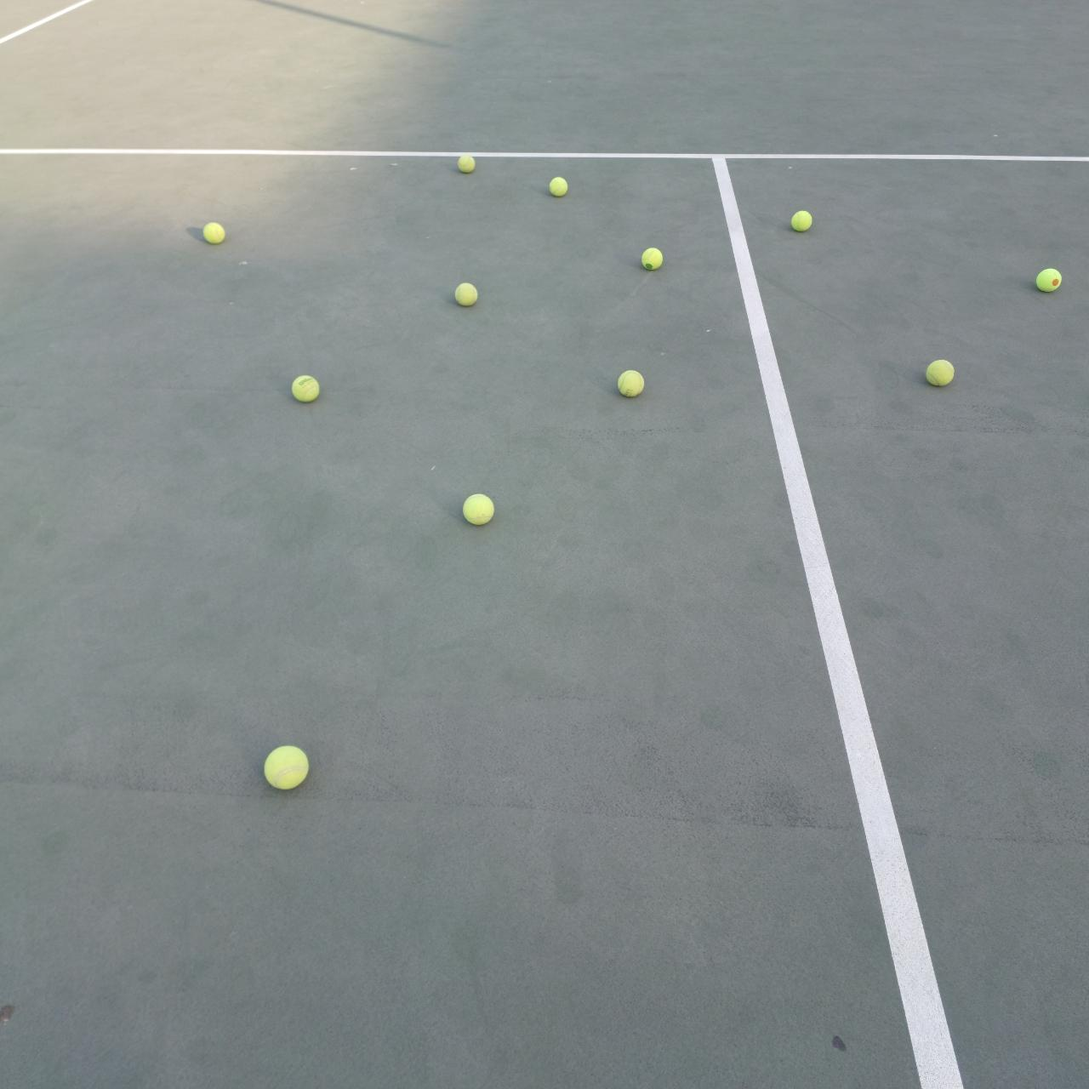tennis-ball: (262, 742, 310, 790), (461, 491, 494, 526), (289, 372, 320, 402), (924, 357, 955, 386), (615, 368, 645, 397), (1034, 265, 1062, 293), (453, 280, 478, 306), (640, 245, 664, 271), (201, 220, 225, 244), (789, 208, 812, 231), (547, 174, 567, 197), (456, 152, 476, 173)
